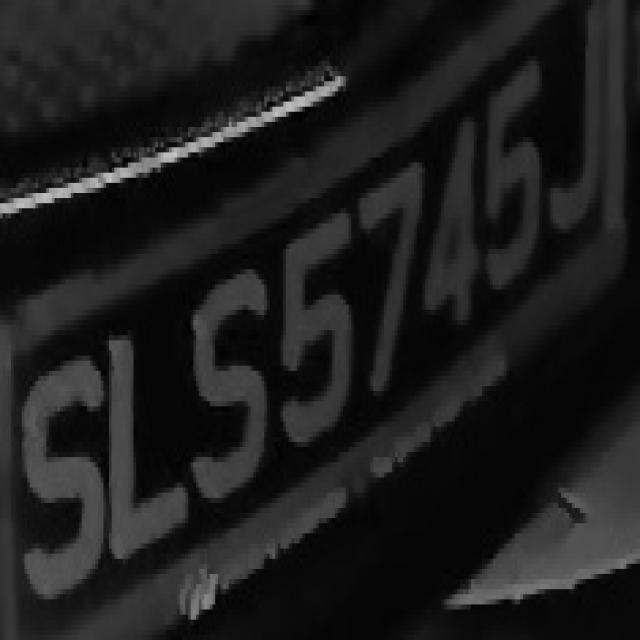4: (420, 107, 490, 356)
5: (270, 198, 354, 457), (479, 56, 553, 294)
7: (348, 183, 428, 427)
J: (545, 15, 610, 244)
L: (92, 325, 198, 574)
S: (19, 340, 106, 600), (185, 274, 272, 508)
